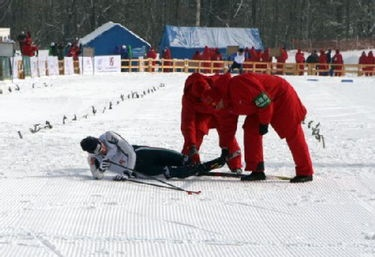10+: (9, 43, 375, 176)
down: (68, 129, 239, 181)
